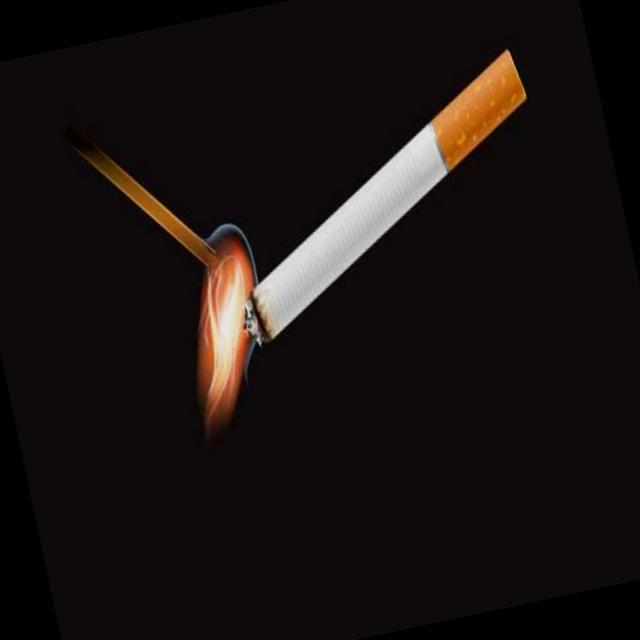cigarette: (202, 36, 567, 354)
